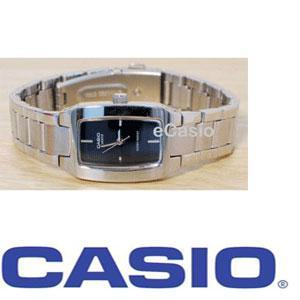watch: (36, 87, 214, 193)
